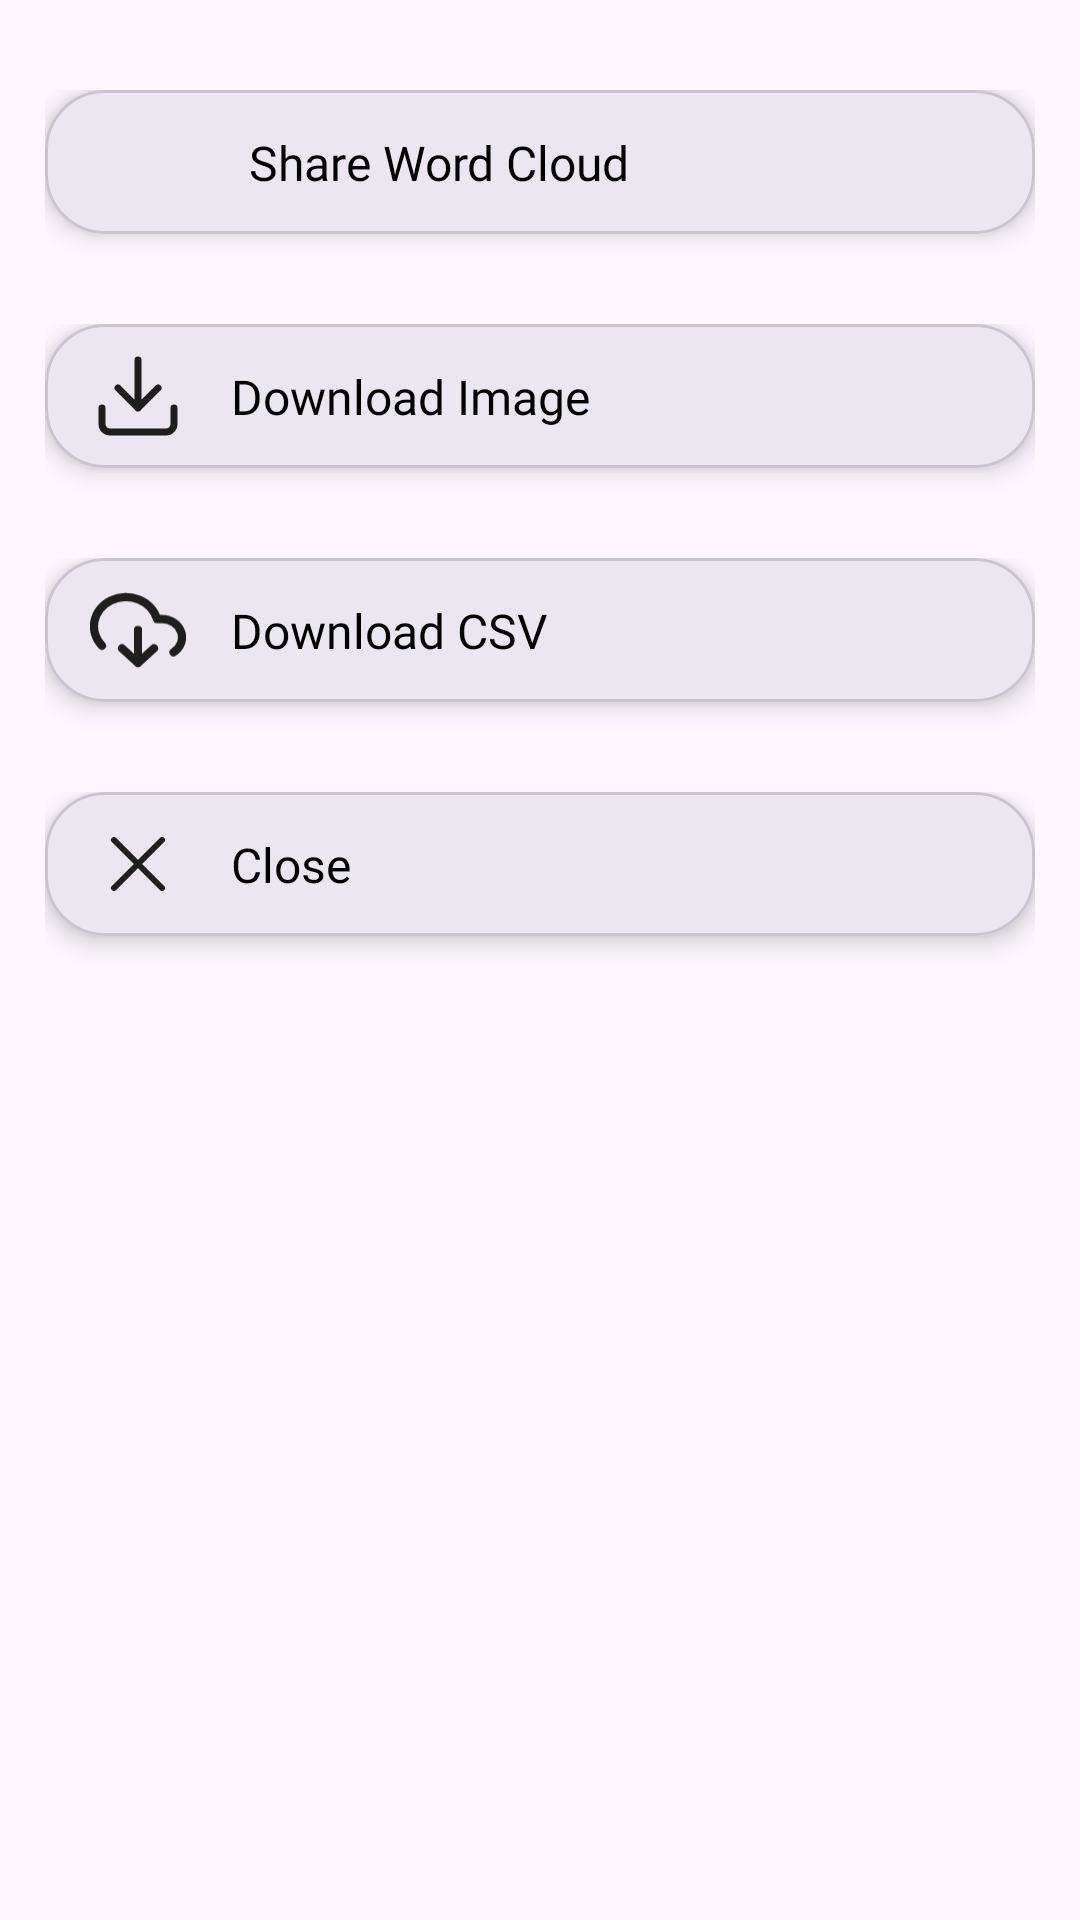

Locate icon controls on the screen. Image size 1080×1920, boxes as (x1, y1, x2, y2).
download cloud: (90, 592, 186, 668)
